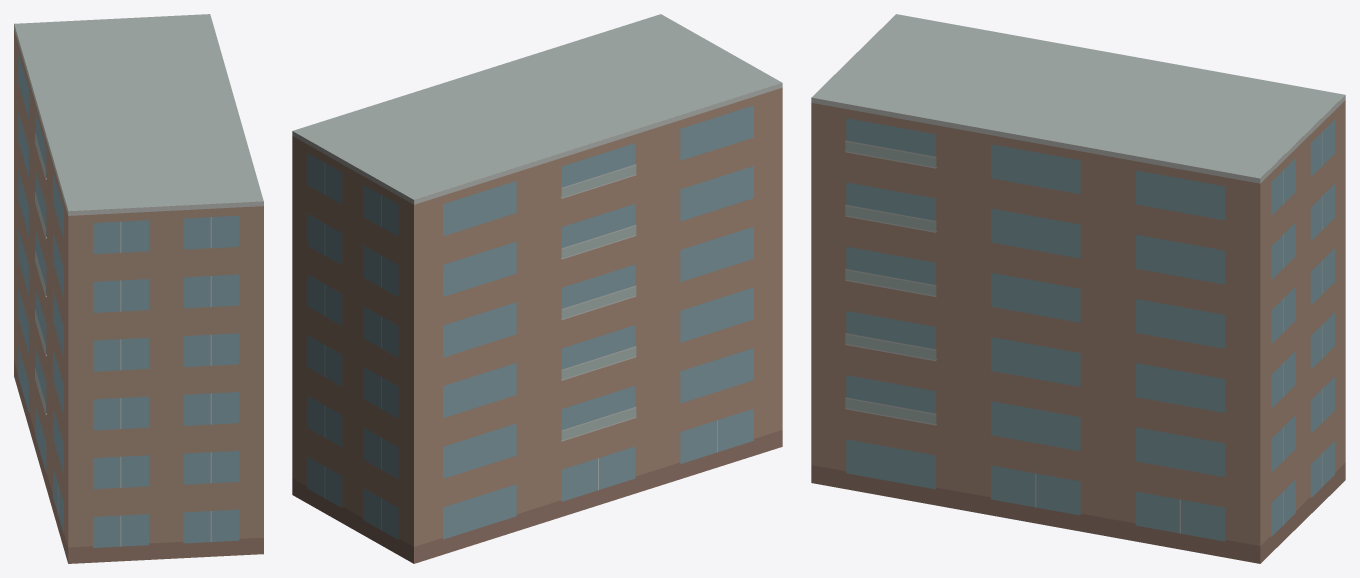
File: survey-upis-33016993.glb
3 views of the same model, side by side, from view 1: azimuth 30°, elevation 25°; view 2: azimuth 150°, elevation 25°; view 3: azimuth 270°, elevation 25° (orthographic). The views are drawn at different scales.
Visible parts, largest first — view 1: survey-upis-33016993.tmp; view 2: survey-upis-33016993.tmp; view 3: survey-upis-33016993.tmp.
Part boxes in pixels (x1,y1,x2,y2): survey-upis-33016993.tmp: [14, 14, 263, 563]; survey-upis-33016993.tmp: [292, 14, 782, 563]; survey-upis-33016993.tmp: [811, 14, 1345, 563].
Size of the model in its own units: 16.77 by 18.3 by 23.
